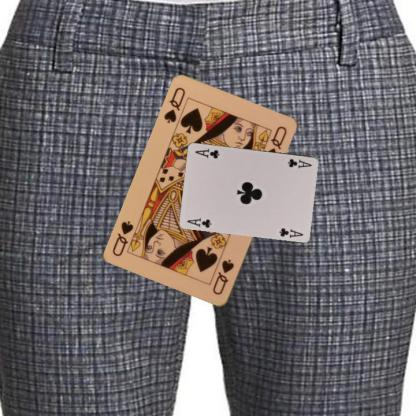Ac: (184, 215, 213, 229), (286, 156, 313, 169)
Qs: (210, 257, 236, 297), (161, 85, 187, 125)
